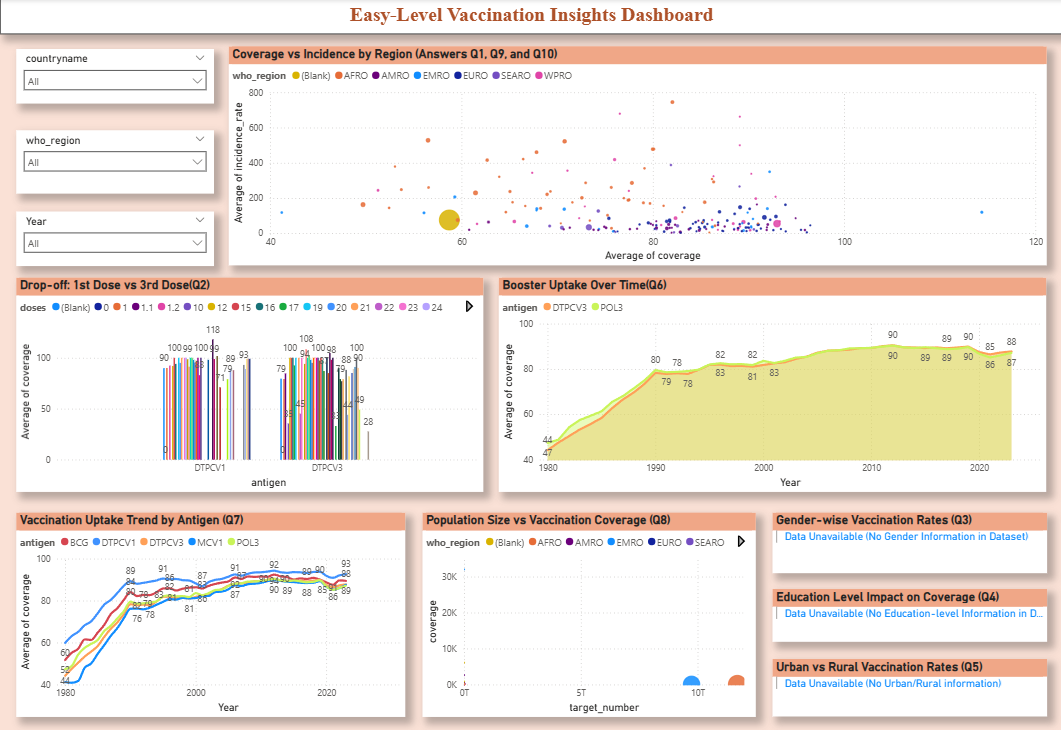

The page's visual inventory and layout, read from the dashboard file:
{"tool":"powerbi","page":{"name":"Page 1","canvas":[1450,1000],"ordinal":0},"visuals":[{"type":"textbox","box":[0,0,1450,48.3],"z":0},{"type":"slicer","fields":{"Values":["DateTable.Year"]},"box":[0,290,292,74],"z":1000},{"type":"slicer","fields":{"Values":["DimCountry.who_region"]},"box":[0,180,292,86],"z":2000},{"type":"slicer","fields":{"Values":["DimCountry.countryname"]},"box":[0,68,292,74],"z":3000},{"type":"scatterChart","title":"Coverage vs Incidence by Region (Answers Q1, Q9, and Q10)","fields":{"X":["Avg(vaccination coverage_data.coverage)"],"Y":["Avg(vaccination incidence_rate_data.incidence_rate)"],"Series":["DimCountry.who_region"],"Size":["Sum(vaccination reported_cases_data.cases)"],"Category":["DimCountry.countryname"]},"box":[311.7,65,1115,298.3],"z":4000},{"type":"clusteredColumnChart","title":"Drop-off: 1st Dose vs 3rd Dose(Q2)","fields":{"Category":["vaccination coverage_data.antigen"],"Y":["Avg(vaccination coverage_data.coverage)"],"Series":["vaccination coverage_data.doses"]},"box":[21.7,380,636.7,291.7],"z":5000},{"type":"lineChart","title":"Booster Uptake Over Time(Q6)","fields":{"Category":["DateTable.Year"],"Y":["Avg(vaccination coverage_data.coverage)"],"Series":["vaccination coverage_data.antigen"]},"box":[680,380,746.7,291.7],"z":6000},{"type":"multiRowCard","title":"Gender-wise Vaccination Rates (Q3)","fields":{"Values":["DateTable.GenderCoverageNote"]},"box":[1054,700,374,82],"z":7000},{"type":"multiRowCard","title":"Education Level Impact on Coverage (Q4)","fields":{"Values":["DateTable.EducationCoverageNote"]},"box":[1054,804,374,72],"z":8000},{"type":"multiRowCard","title":"Urban vs Rural Vaccination Rates (Q5)","fields":{"Values":["DateTable.UrbanRuralCoverageNote"]},"box":[1054,900,374,78],"z":9000},{"type":"lineChart","title":"Vaccination Uptake Trend by Antigen (Q7)","fields":{"Category":["DateTable.Year"],"Y":["Avg(vaccination coverage_data.coverage)"],"Series":["vaccination coverage_data.antigen"]},"box":[22,700,530,278],"z":10000},{"type":"scatterChart","title":"Population Size vs Vaccination Coverage (Q8)","fields":{"X":["vaccination coverage_data.target_number"],"Series":["DimCountry.who_region"],"Size":["Sum(vaccination coverage_data.target_number)"],"Y":["vaccination coverage_data.coverage"]},"box":[576,700,454,278],"z":11000}]}

Visuals, with their boxes in screenshot pixels (x1, y1, x2, y2), scaled from the page's 1450x1000 canvas onto the 1061x730 screenshot:
textbox: box(0, 0, 1060, 35)
slicer - DateTable.Year: box(0, 212, 214, 266)
slicer - DimCountry.who_region: box(0, 131, 214, 194)
slicer - DimCountry.countryname: box(0, 50, 214, 104)
"Coverage vs Incidence by Region (Answers Q1, Q9, and Q10)" scatterChart: box(228, 47, 1044, 265)
"Drop-off: 1st Dose vs 3rd Dose(Q2)" clusteredColumnChart: box(16, 277, 482, 490)
"Booster Uptake Over Time(Q6)" lineChart: box(498, 277, 1044, 490)
"Gender-wise Vaccination Rates (Q3)" multiRowCard: box(771, 511, 1045, 571)
"Education Level Impact on Coverage (Q4)" multiRowCard: box(771, 587, 1045, 639)
"Urban vs Rural Vaccination Rates (Q5)" multiRowCard: box(771, 657, 1045, 714)
"Vaccination Uptake Trend by Antigen (Q7)" lineChart: box(16, 511, 404, 714)
"Population Size vs Vaccination Coverage (Q8)" scatterChart: box(421, 511, 754, 714)
